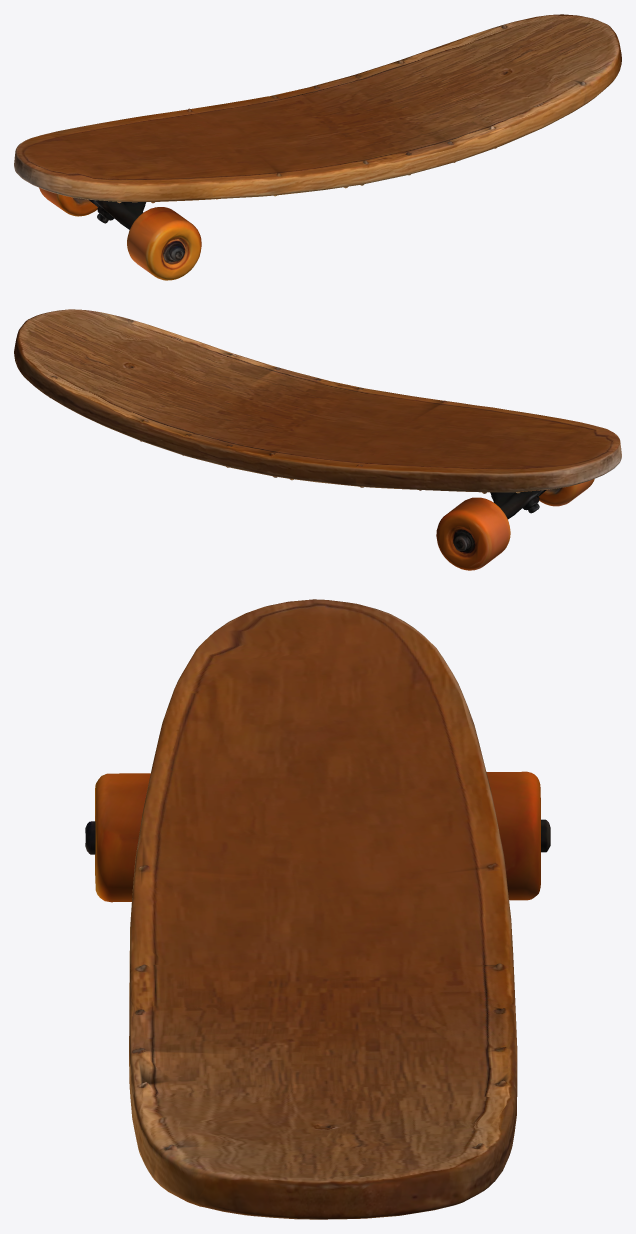
Rendered from CCG_Deck_StormburnSunrise_web.glb.
3 views of the same model, one above another, from view 1: azimuth 30°, elevation 25°; view 2: azimuth 150°, elevation 25°; view 3: azimuth 270°, elevation 25° (orthographic). The views are drawn at different scales.
Visible parts, largest first — view 1: SM_Deck_StormburnSunrise; view 2: SM_Deck_StormburnSunrise; view 3: SM_Deck_StormburnSunrise.
Part boxes in pixels (x1,y1,x2,y2): SM_Deck_StormburnSunrise: (14, 14, 621, 280); SM_Deck_StormburnSunrise: (14, 309, 621, 570); SM_Deck_StormburnSunrise: (85, 599, 550, 1219).
Bounding box in the file's own units: 0.8199 × 0.1358 × 0.2811.
1 material, 1 textured.
